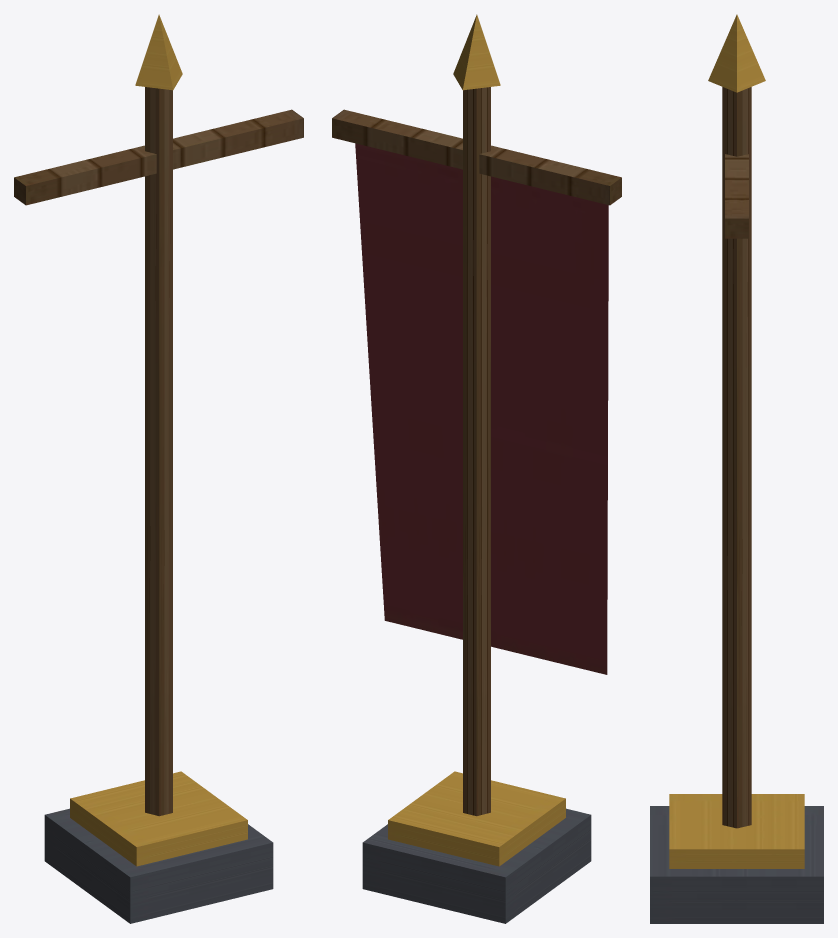
File: ae_raid_trophy_banner_lod1.glb
3 renders of one model, left to right at view 1: azimuth 30°, elevation 25°; view 2: azimuth 150°, elevation 25°; view 3: azimuth 270°, elevation 25°, orthographic.
Parts seen in each view (by area): view 1: ae_raid_trophy_banner_lod1; view 2: ae_raid_trophy_banner_lod1; view 3: ae_raid_trophy_banner_lod1.
Boxes of the visible parts, left/top/right/bottom form: ae_raid_trophy_banner_lod1: left=14, top=14, right=303, bottom=923; ae_raid_trophy_banner_lod1: left=332, top=14, right=621, bottom=923; ae_raid_trophy_banner_lod1: left=650, top=14, right=823, bottom=923.
Bounding box in the file's own units: 0.7499 × 2.22 × 0.4.
Materials: 1 (1 with a texture image).
